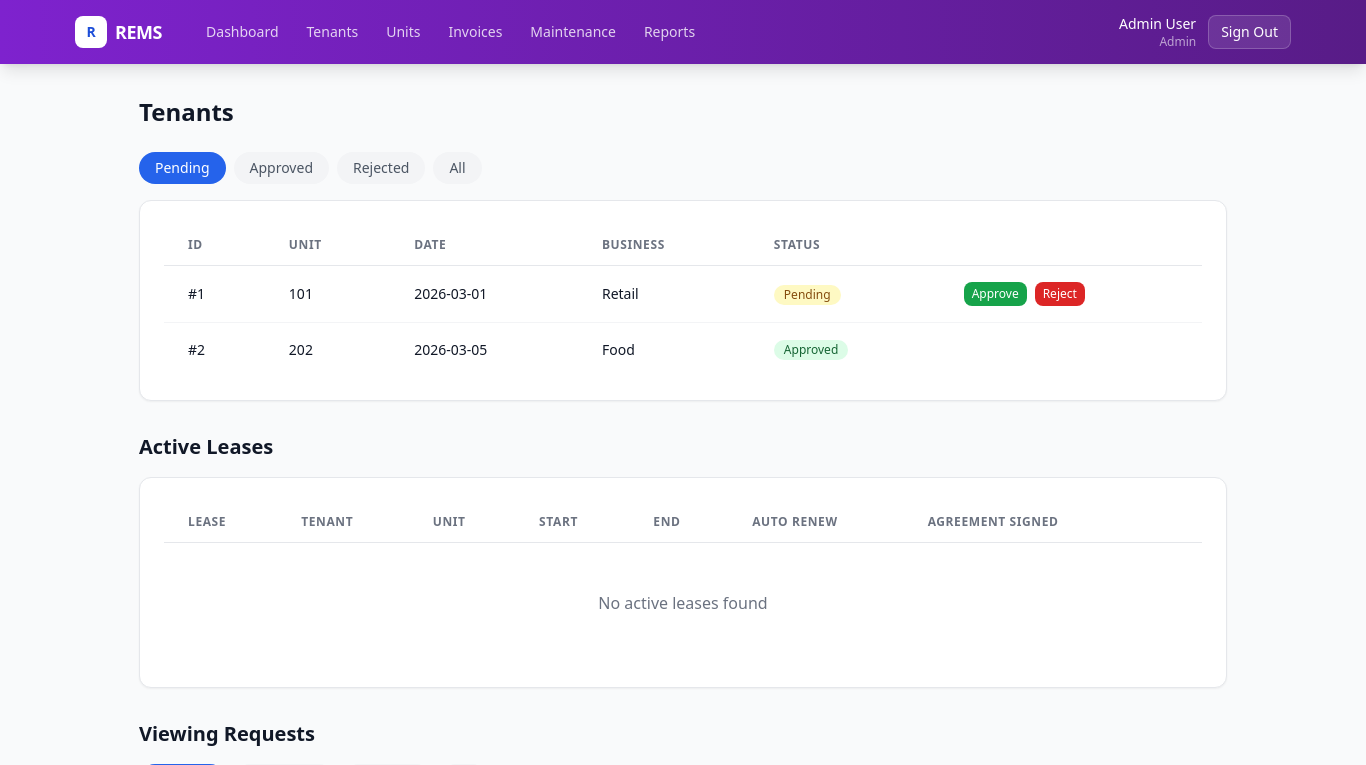
Scenario: TC-04/TC-25: Applications List page (clerk) › shows success message after rejecting application
This screenshot has width=1366, height=765.
Click the button "Reject": (1060, 294) left=1035, top=282, right=1085, bottom=306
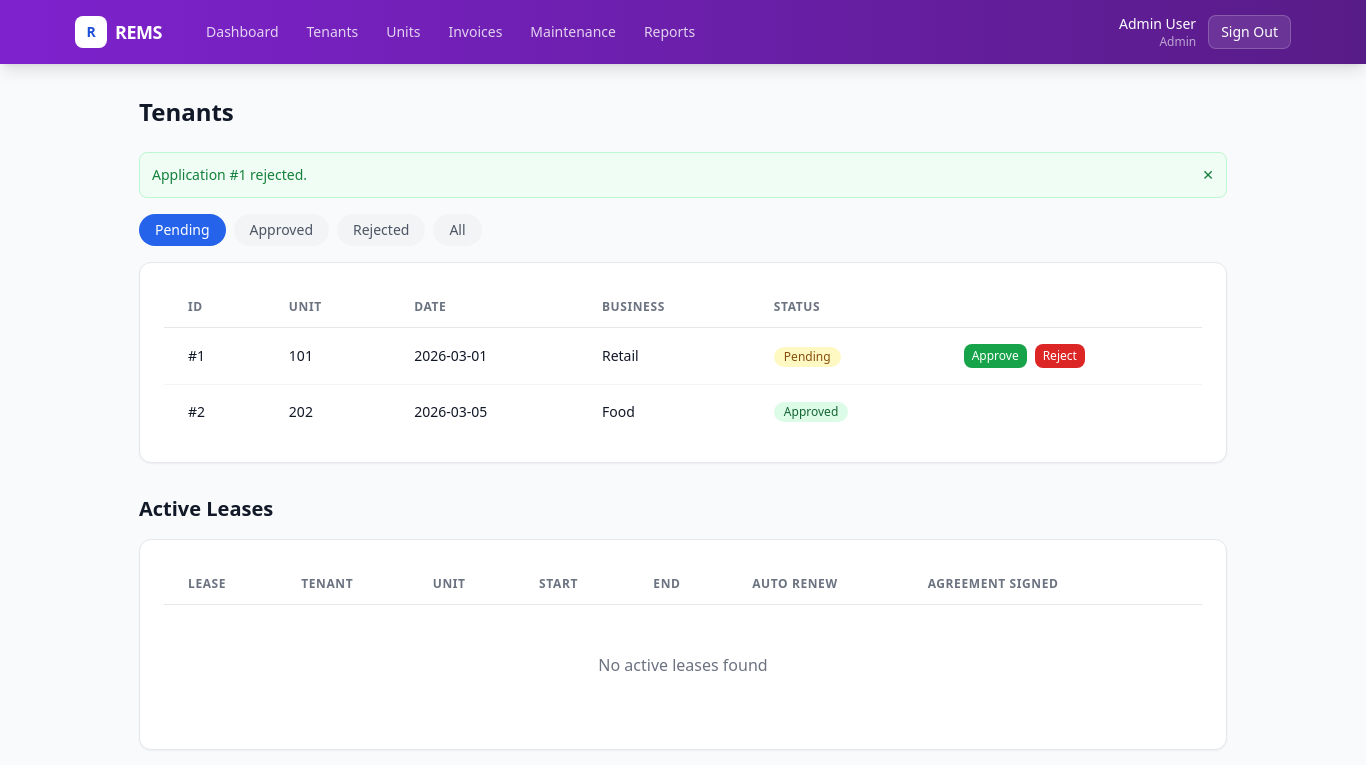
expect the text "Application #1 rejected. ✕" is shown: met, box left=139, top=152, right=1227, bottom=198
